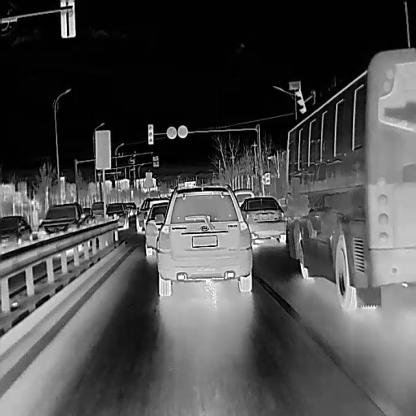bus: (277, 44, 415, 313)
car: (154, 181, 252, 296), (36, 201, 86, 248), (239, 195, 286, 243), (0, 214, 32, 259), (144, 201, 170, 256), (134, 195, 167, 234), (106, 202, 127, 227), (91, 199, 107, 221)
